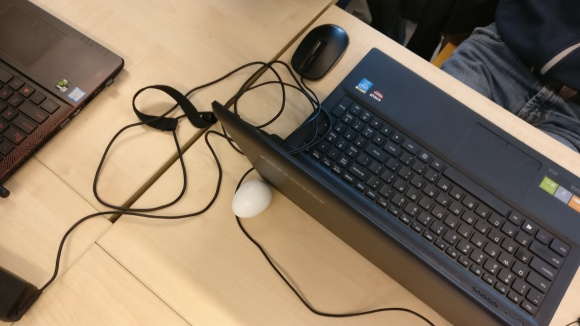egg: (233, 178, 271, 224)
